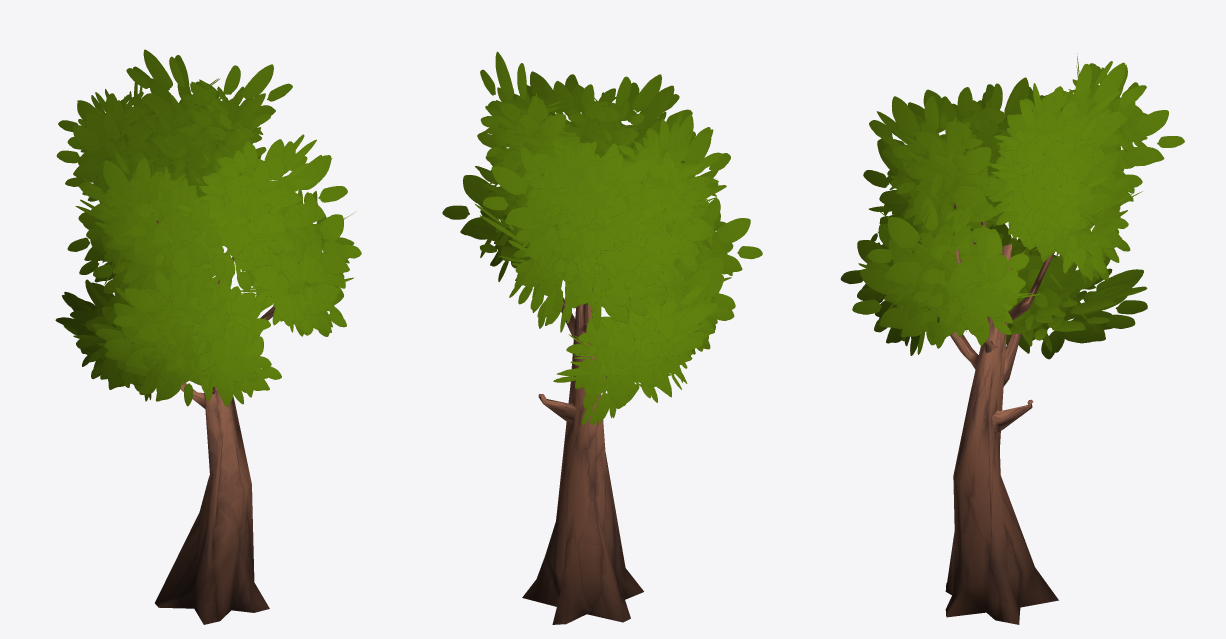
Rendered from commontree_5_1.glb.
3 views of the same model, side by side, from view 1: azimuth 30°, elevation 25°; view 2: azimuth 150°, elevation 25°; view 3: azimuth 270°, elevation 25° (orthographic). The views are drawn at different scales.
Visible parts, largest first — view 1: CommonTree_5; view 2: CommonTree_5; view 3: CommonTree_5.
Part boxes in pixels (x1=…): CommonTree_5: x1=55, y1=49, x2=361, y2=624; CommonTree_5: x1=442, y1=51, x2=762, y2=624; CommonTree_5: x1=840, y1=54, x2=1184, y2=624.
Size of the model in its own units: 4.32 by 7.37 by 4.58.
2 materials, 2 textured.
